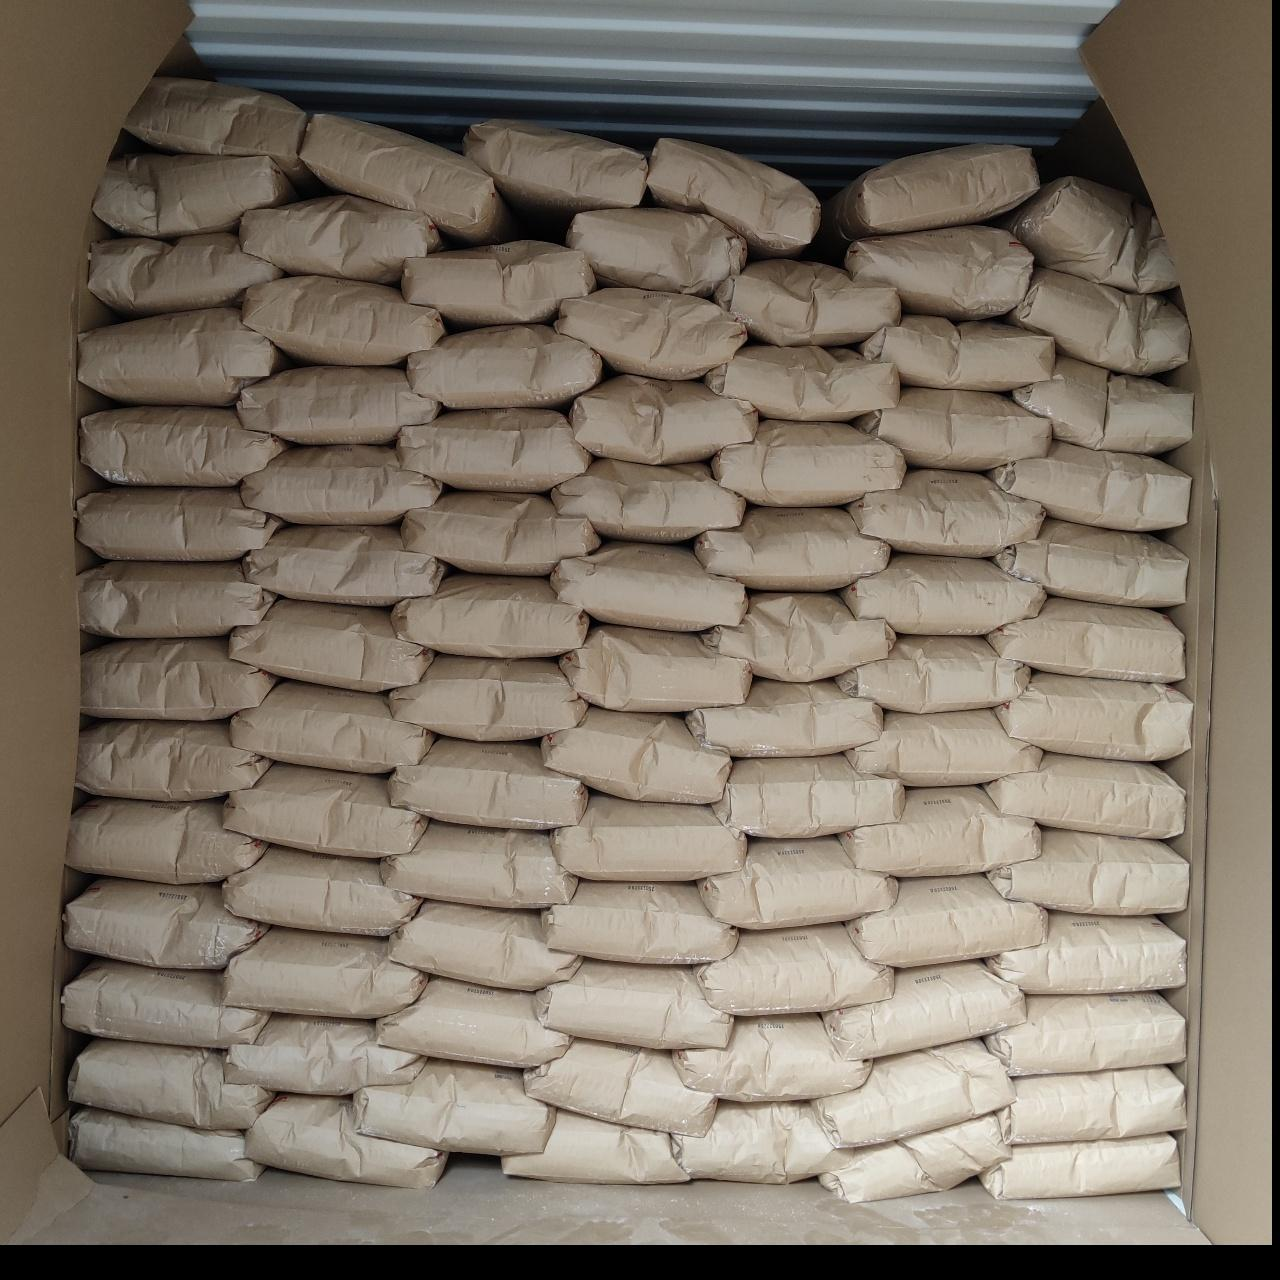sack: (302, 114, 515, 244), (821, 144, 1036, 248), (124, 76, 312, 188), (813, 1040, 1012, 1144), (80, 308, 286, 406), (1000, 176, 1175, 290), (648, 139, 818, 254), (1005, 268, 1189, 374), (354, 1060, 552, 1155), (824, 962, 1022, 1056), (462, 122, 646, 222), (248, 1094, 445, 1186), (224, 764, 425, 855), (230, 600, 430, 690), (232, 682, 430, 772), (847, 876, 1046, 966), (244, 275, 444, 365), (524, 1040, 716, 1132), (696, 924, 892, 1014), (542, 708, 728, 802), (241, 196, 442, 282), (66, 878, 263, 966), (842, 788, 1039, 876), (70, 1040, 270, 1126), (64, 960, 266, 1046), (390, 738, 584, 828), (988, 442, 1189, 527), (224, 928, 424, 1014), (1012, 356, 1190, 452), (94, 154, 302, 236), (224, 846, 418, 934), (700, 838, 894, 926), (844, 226, 1030, 318), (556, 288, 744, 377), (996, 672, 1190, 758), (552, 542, 742, 629), (850, 470, 1044, 556), (536, 960, 730, 1046), (377, 978, 566, 1065), (390, 903, 578, 990), (68, 798, 266, 881), (988, 828, 1186, 910), (552, 794, 744, 878), (382, 822, 574, 906), (674, 1016, 869, 1099), (390, 656, 584, 740), (821, 1114, 1006, 1200), (986, 754, 1182, 836), (402, 492, 598, 574), (996, 520, 1184, 606), (702, 594, 894, 678), (856, 388, 1050, 470), (570, 376, 756, 462), (561, 626, 750, 710), (988, 994, 1182, 1076), (988, 598, 1182, 680), (402, 241, 594, 324), (80, 408, 286, 484), (392, 574, 588, 654), (244, 526, 445, 604), (696, 508, 886, 590), (552, 459, 742, 542), (90, 234, 280, 316), (714, 420, 903, 502), (544, 881, 734, 962), (408, 326, 600, 406), (238, 366, 438, 442), (842, 554, 1044, 629), (82, 640, 275, 719), (990, 912, 1184, 990), (226, 1016, 422, 1094), (714, 260, 898, 342), (241, 445, 440, 522), (714, 756, 903, 836), (79, 720, 270, 798), (568, 207, 745, 292), (399, 410, 590, 488), (80, 561, 275, 636), (688, 680, 878, 756), (858, 316, 1054, 390), (79, 488, 284, 558), (706, 346, 898, 420), (838, 636, 1030, 710), (70, 1108, 263, 1180), (672, 1102, 847, 1180), (847, 710, 1040, 782), (1000, 1068, 1184, 1142), (504, 1110, 686, 1182), (980, 1133, 1178, 1198)
